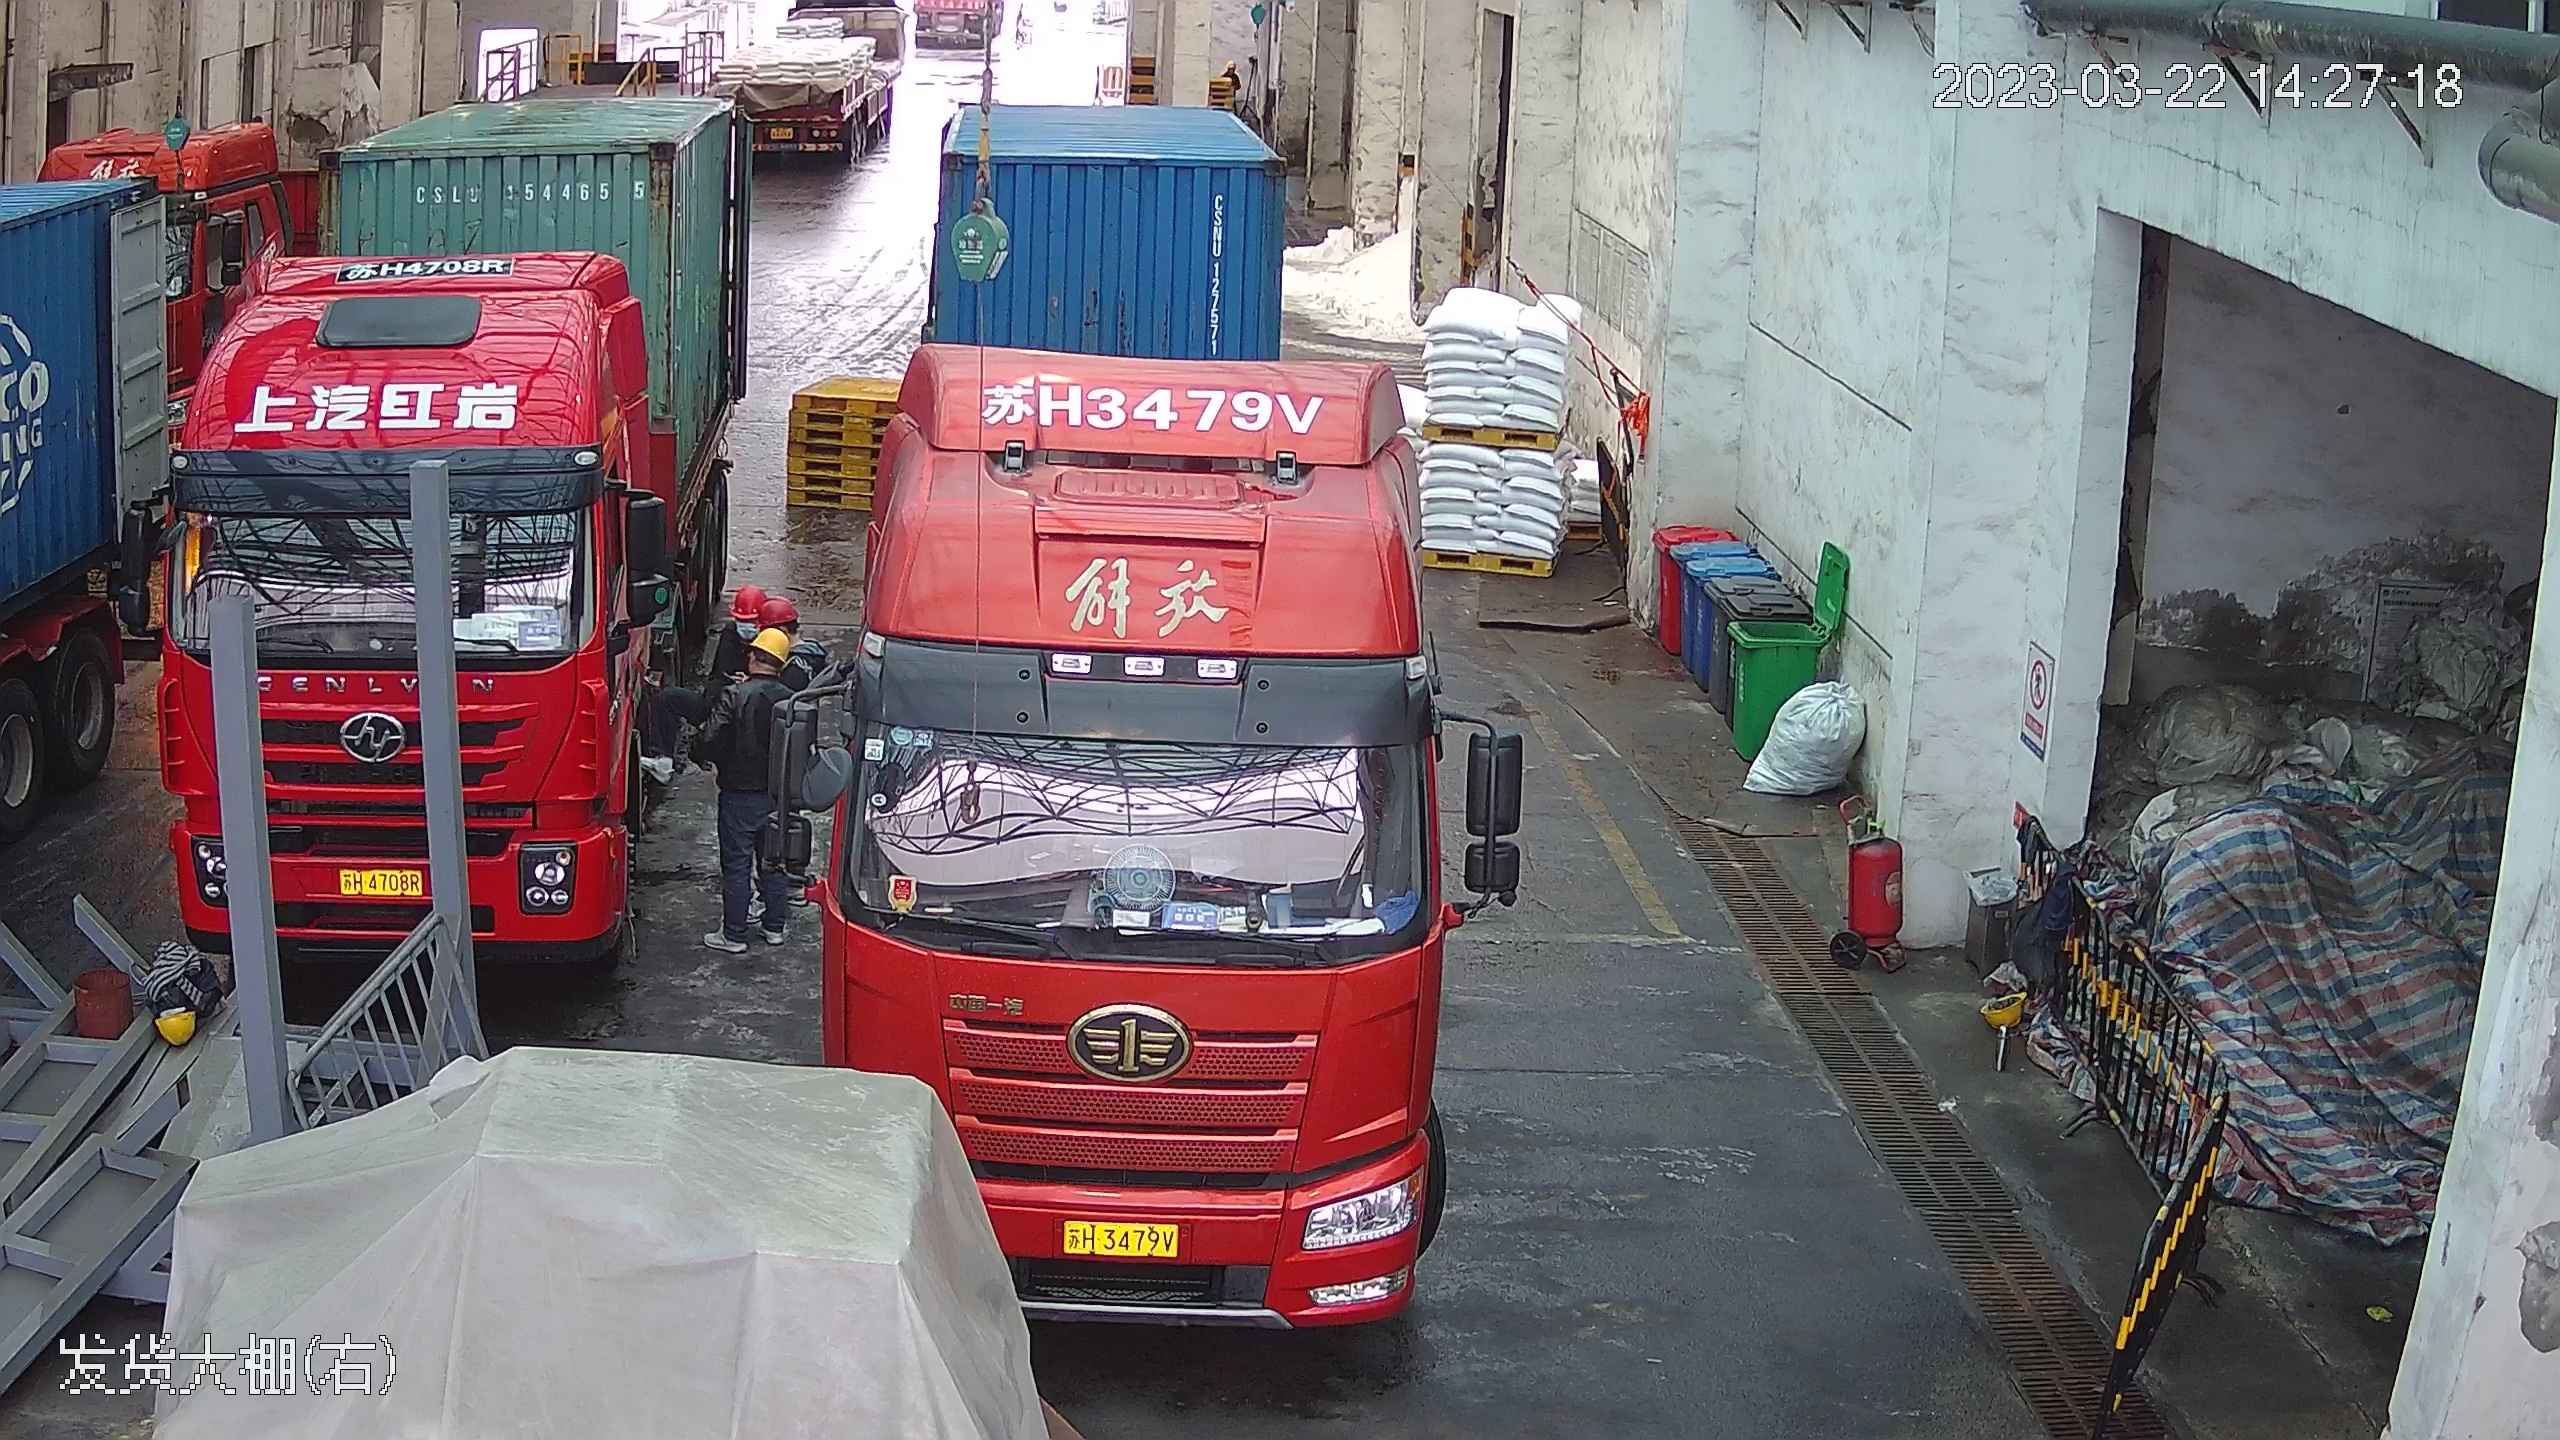head: (715, 624, 797, 713)
helmet: (755, 591, 801, 627), (750, 624, 795, 660), (726, 585, 769, 618)
people: (694, 621, 801, 949)
truck: (834, 52, 1470, 1314), (153, 51, 763, 968), (1, 113, 175, 986), (719, 5, 906, 174)
